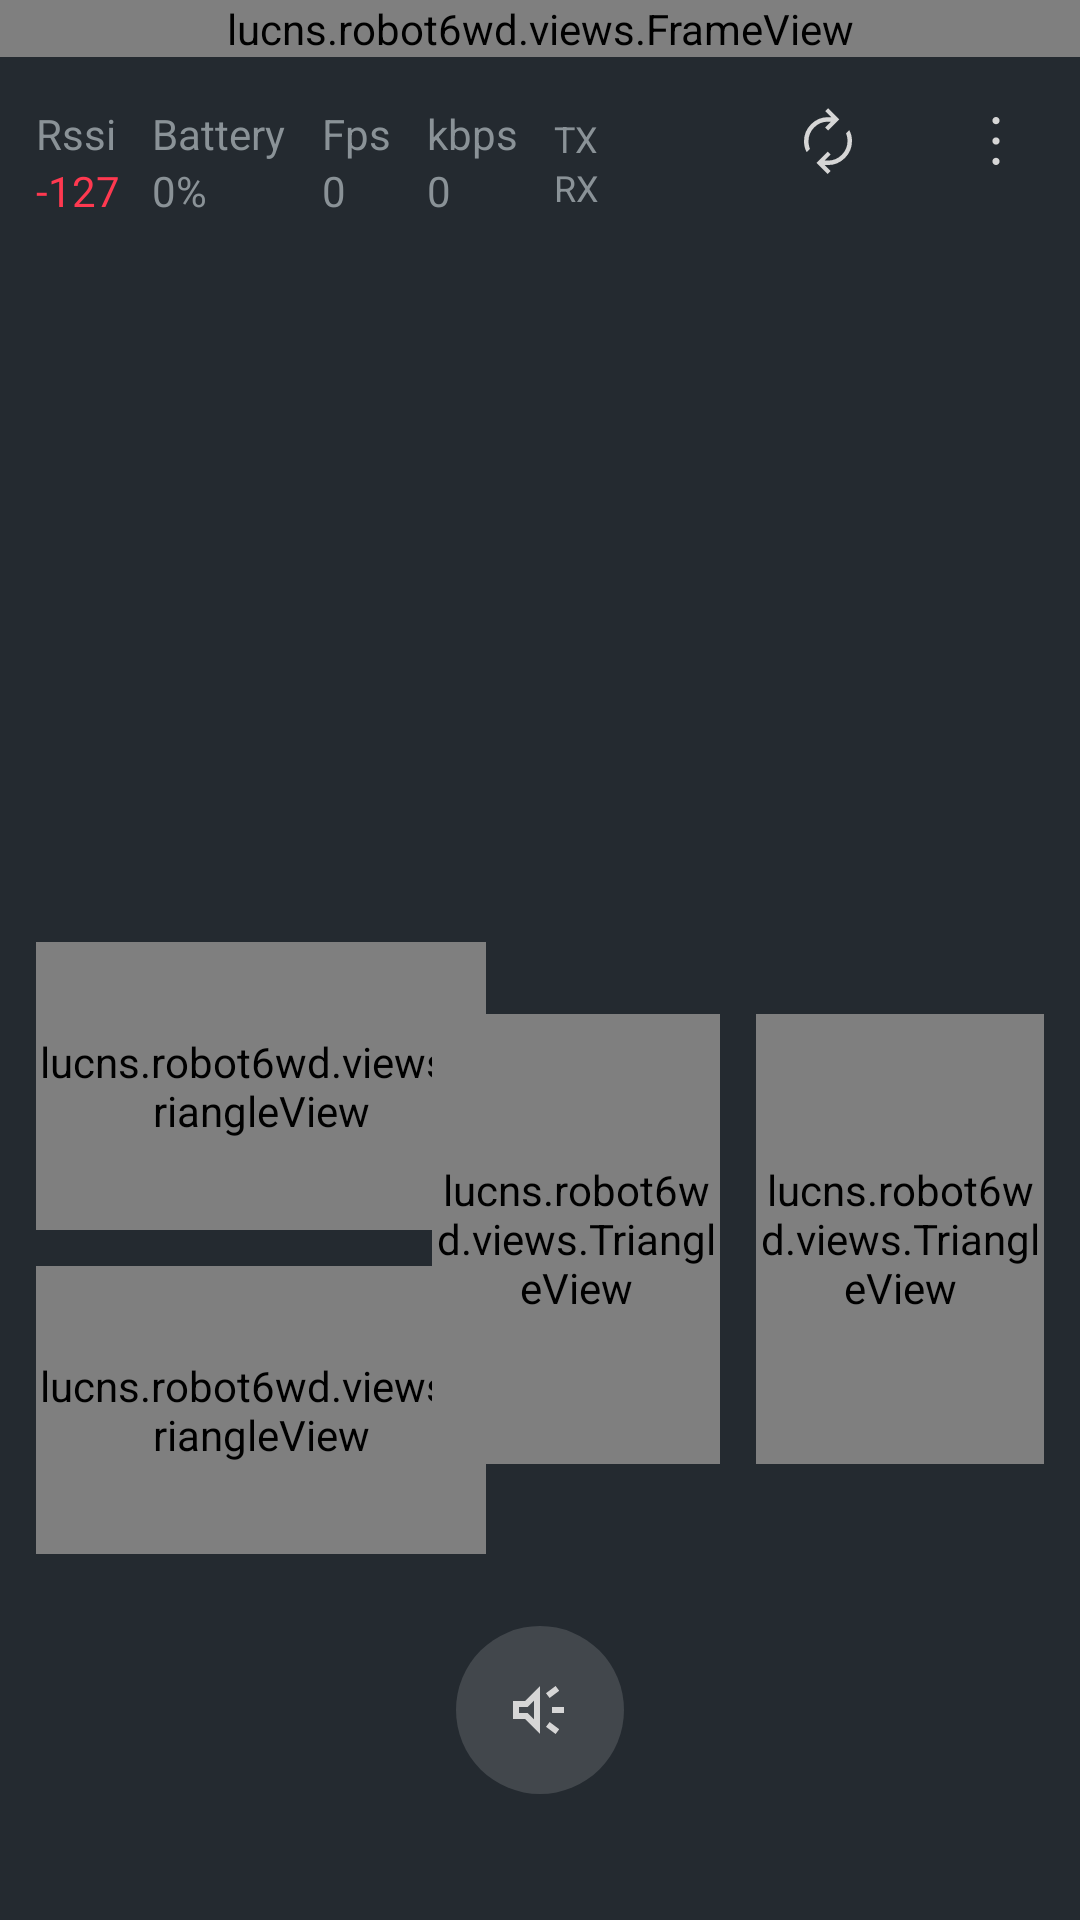

Icon click points for this 1080*1920 phone screenshot, format (x=x, y=y):
buzzer: (x=540, y=1710)
more vertical: (x=996, y=141)
reconnect: (x=828, y=141)
